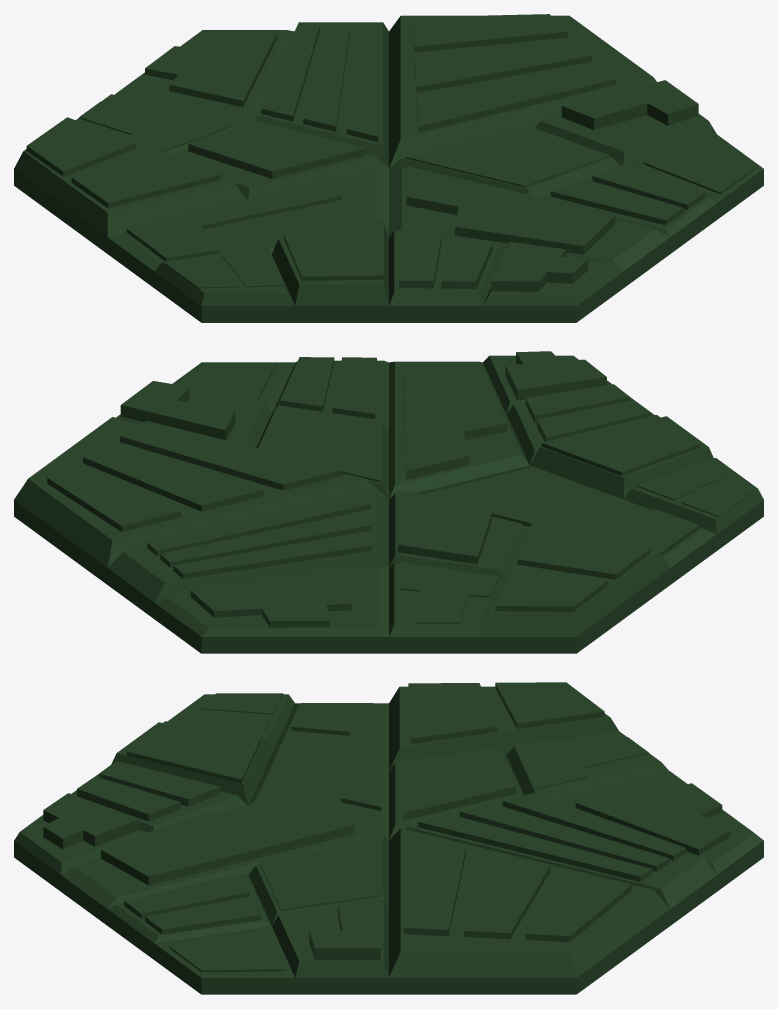
The model's file is DysonSphereHex03.FBX.
The picture shows the model from 3 angles, top to bottom: view 1: azimuth 30°, elevation 25°; view 2: azimuth 150°, elevation 25°; view 3: azimuth 270°, elevation 25°; orthographic projection.
Visible parts, largest first — view 1: Hexagon03; view 2: Hexagon03; view 3: Hexagon03.
Boxes of the visible parts, <box> form: Hexagon03: <box>14,14,763,322</box>; Hexagon03: <box>14,351,763,653</box>; Hexagon03: <box>14,682,763,994</box>.
Size of the model in its own units: 34.95 by 2.61 by 40.35.
